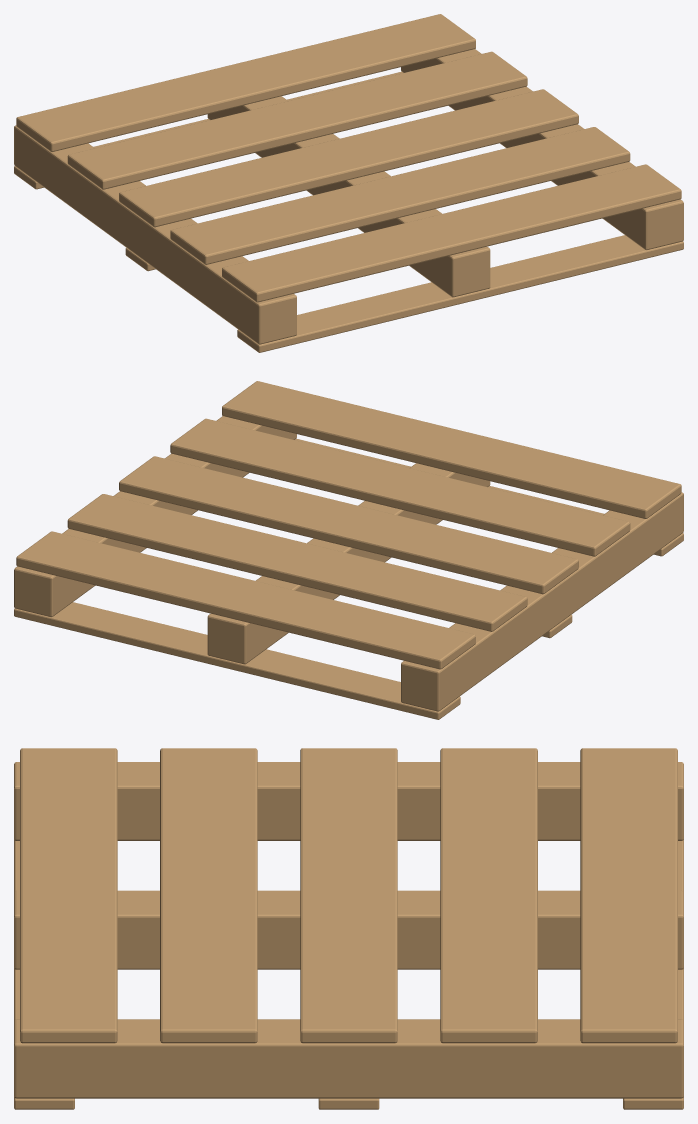
Rendered from pallet.glb.
The picture shows the model from 3 angles, top to bottom: view 1: azimuth 30°, elevation 25°; view 2: azimuth 150°, elevation 25°; view 3: azimuth 270°, elevation 25°; orthographic projection. The views are drawn at different scales.
Visible parts, largest first — view 1: pallet_parts; view 2: pallet_parts; view 3: pallet_parts.
Part boxes in pixels (box(x1,y1,x2,y2)): pallet_parts: box(14, 14, 683, 352); pallet_parts: box(14, 381, 683, 719); pallet_parts: box(14, 748, 683, 1109).
Bounding box in the file's own units: 1.1 × 0.145 × 1.1.
